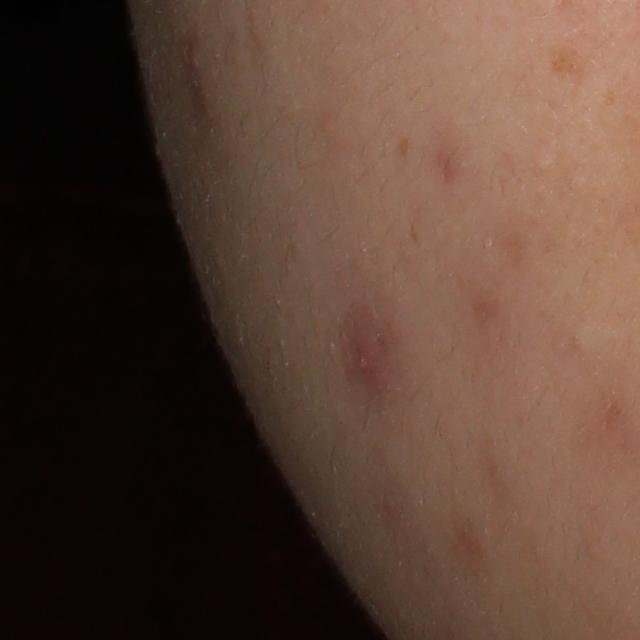comedo: (567, 324, 593, 352)
melasma: (547, 40, 594, 85)
papule: (350, 330, 392, 389), (186, 51, 203, 76)
